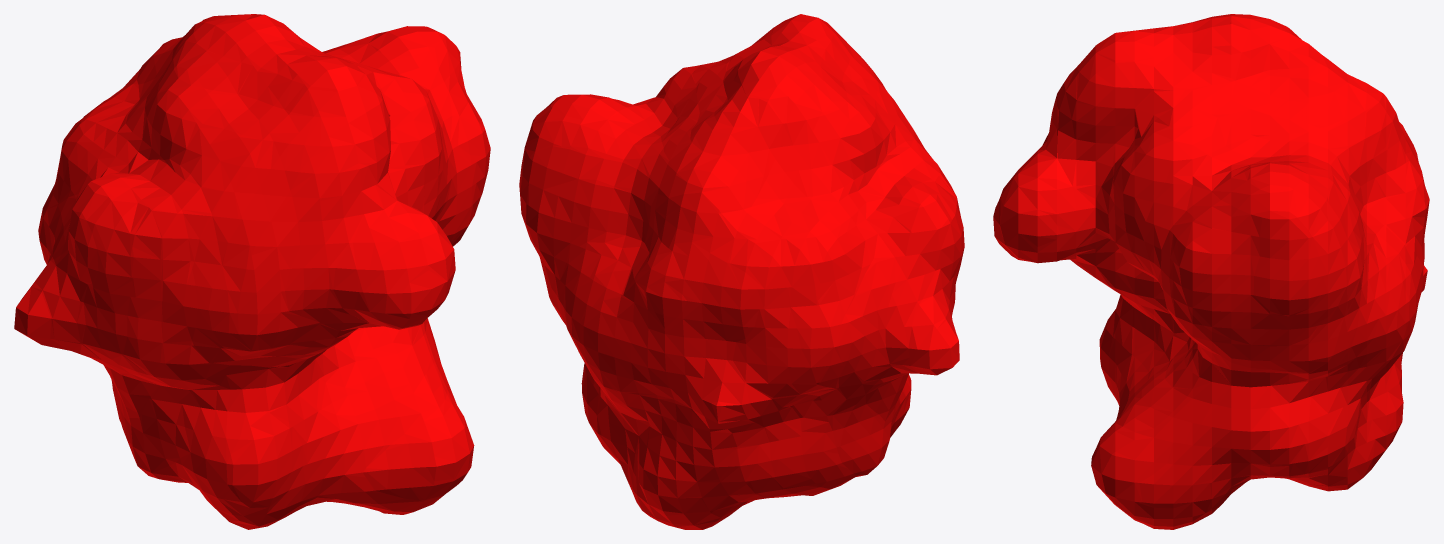
The model's file is ybhK_coarse.dae.
3 renders of one model, left to right at view 1: azimuth 30°, elevation 25°; view 2: azimuth 150°, elevation 25°; view 3: azimuth 270°, elevation 25°, orthographic. The views are drawn at different scales.
Visible parts, largest first — view 1: ybhK; view 2: ybhK; view 3: ybhK.
Part boxes in pixels (left/top/right/bottom): ybhK: left=14, top=14, right=490, bottom=529; ybhK: left=519, top=14, right=964, bottom=529; ybhK: left=993, top=14, right=1429, bottom=529.
Bounding box in the file's own units: 55.19 × 57.47 × 49.71.
